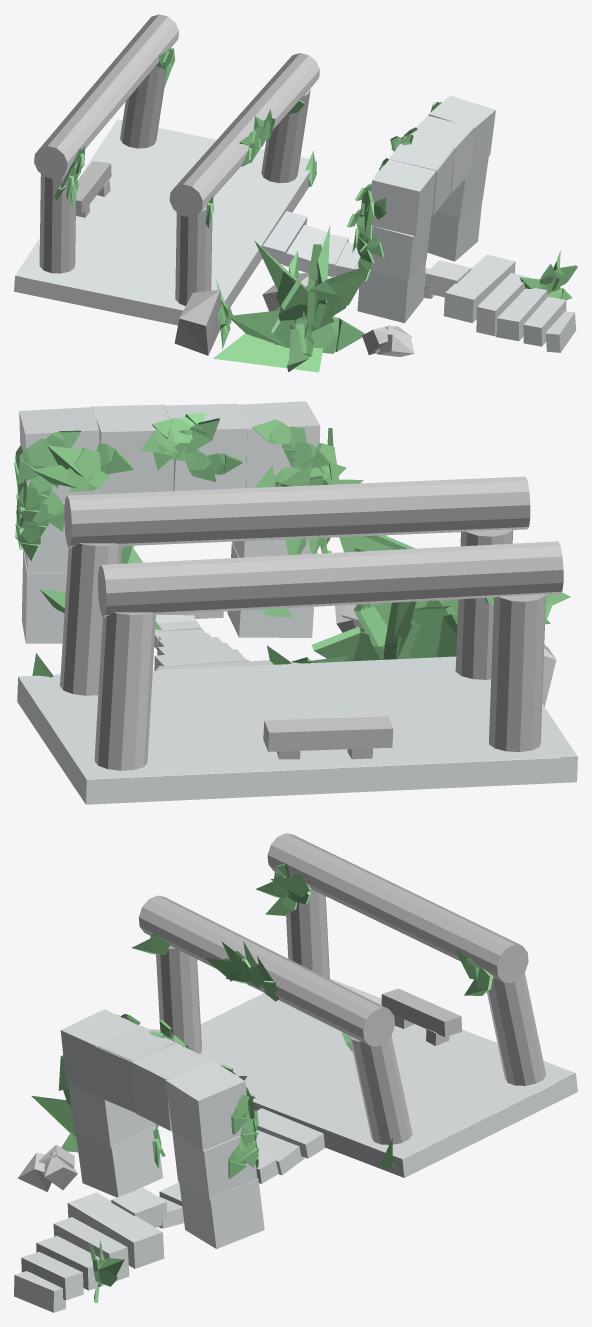
The model's file is ruinsEdit.glb.
3 views of the same model, one above another, from view 1: azimuth 30°, elevation 25°; view 2: azimuth 150°, elevation 25°; view 3: azimuth 270°, elevation 25° (orthographic). The views are drawn at different scales.
Visible parts, largest first — view 1: model; view 2: model; view 3: model.
Boxes of the visible parts, bbox=[...] form: model: bbox=[14, 14, 577, 372]; model: bbox=[14, 401, 577, 804]; model: bbox=[14, 833, 577, 1312].
Bounding box in the file's own units: 0.744 × 0.337 × 0.6823.
